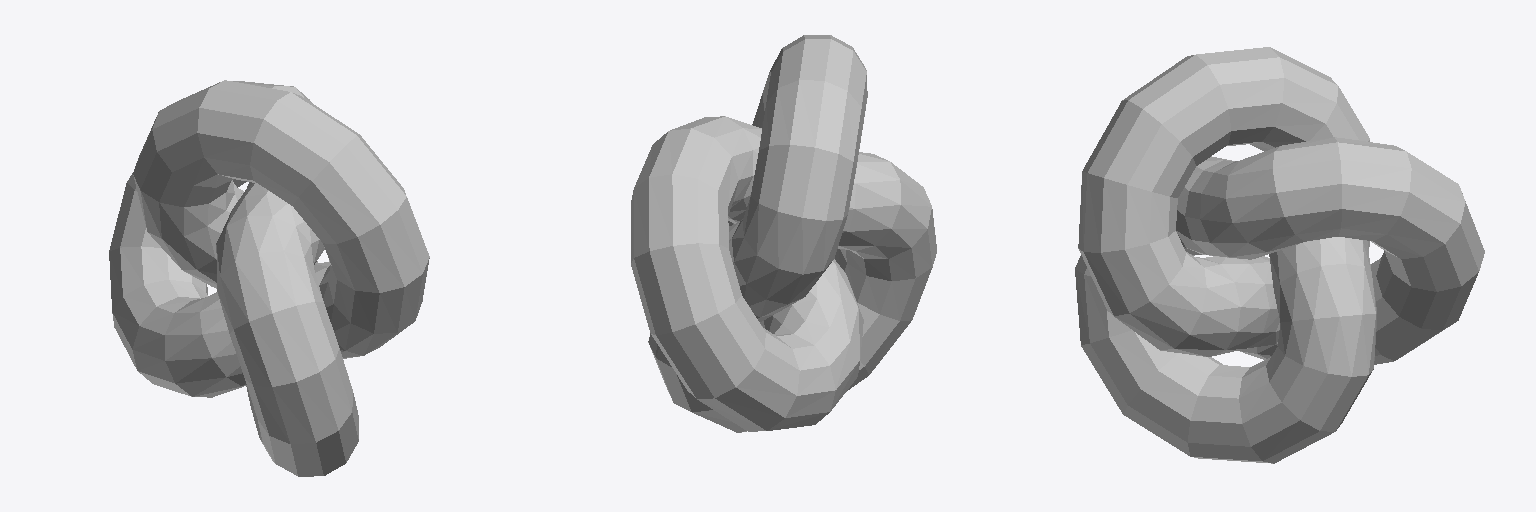
3 views of the same model, side by side, from view 1: azimuth 30°, elevation 25°; view 2: azimuth 150°, elevation 25°; view 3: azimuth 270°, elevation 25° (orthographic).
Visible parts, largest first — view 1: TorusKnot; view 2: TorusKnot; view 3: TorusKnot.
Part boxes in pixels (x1,y1,x2,y2): TorusKnot: (109,80,429,476); TorusKnot: (631,35,936,432); TorusKnot: (1075,47,1484,463).
Size of the model in its own units: 0.6657 by 1.27 by 1.24.